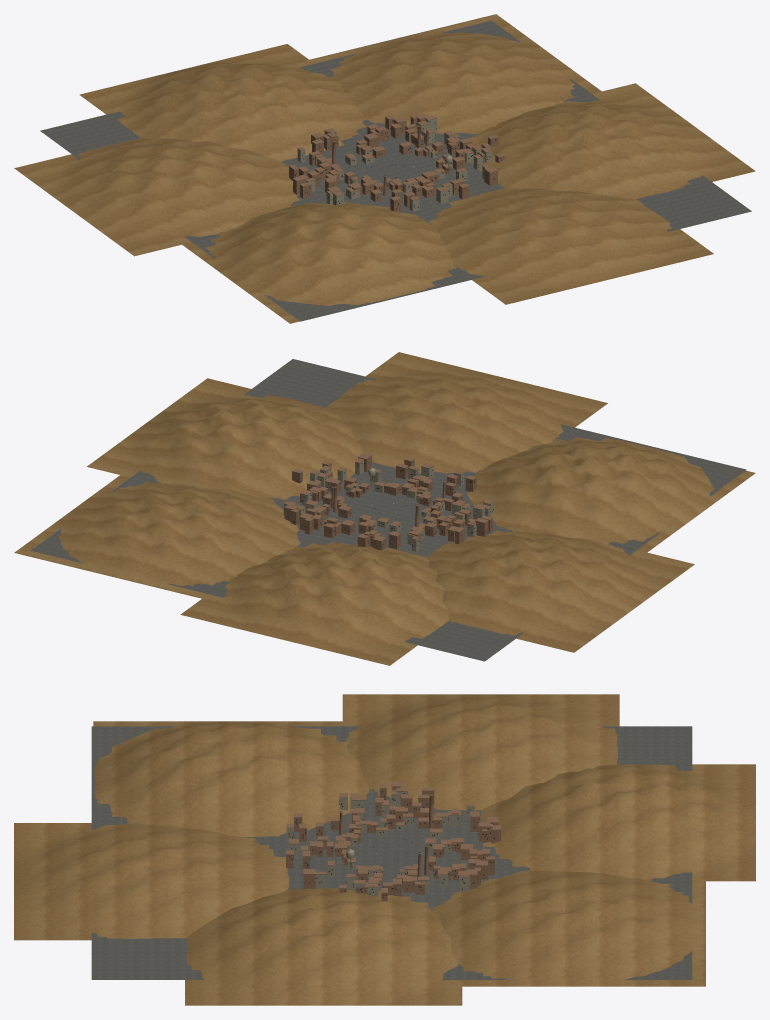
Rendered from depo_cevre.glb.
The picture shows the model from 3 angles, top to bottom: view 1: azimuth 30°, elevation 25°; view 2: azimuth 150°, elevation 25°; view 3: azimuth 270°, elevation 25°; orthographic projection. The views are drawn at different scales.
Visible parts, largest first — view 1: K_tepe1, K_tepe3, K_tepe2, K_tepe0, K_tepe5, K_tepe4, K_zemin, K_ev, K_evs, K_pen; view 2: K_tepe4, K_tepe3, K_tepe5, K_tepe1, K_tepe2, K_tepe0, K_zemin, K_ev, K_evs, K_pen; view 3: K_tepe0, K_tepe1, K_tepe4, K_tepe5, K_tepe2, K_tepe3, K_zemin, K_ev, K_evs, K_pen.
Boxes of the visible parts, box(x1,y1,x2,y2) form: K_tepe1: box(428, 188, 713, 304); K_tepe3: box(14, 138, 300, 256); K_tepe2: box(176, 202, 457, 323); K_tepe0: box(468, 83, 755, 199); K_tepe5: box(291, 14, 615, 133); K_tepe4: box(79, 44, 367, 161); K_zemin: box(40, 20, 751, 321); K_ev: box(289, 114, 504, 211); K_evs: box(297, 118, 492, 211); K_pen: box(290, 120, 502, 209); K_tepe4: box(180, 542, 449, 665); K_tepe3: box(426, 530, 694, 652); K_tepe5: box(14, 465, 300, 603); K_tepe1: box(326, 352, 607, 473); K_tepe2: box(467, 437, 755, 555); K_tepe0: box(86, 378, 363, 500); K_zemin: box(31, 359, 746, 661); K_ev: box(283, 453, 494, 549); K_evs: box(283, 460, 494, 551); K_pen: box(284, 461, 493, 547); K_tepe0: box(185, 888, 462, 1005); K_tepe1: box(14, 823, 289, 940); K_tepe4: box(480, 764, 755, 881); K_tepe5: box(433, 870, 705, 986); K_tepe2: box(93, 721, 368, 837); K_tepe3: box(342, 694, 619, 810); K_zemin: box(91, 726, 692, 979); K_ev: box(286, 780, 500, 901); K_evs: box(286, 791, 473, 896); K_pen: box(288, 791, 494, 897).
Size of the model in its own units: 637 by 40 by 642.
19 materials, 18 textured.
